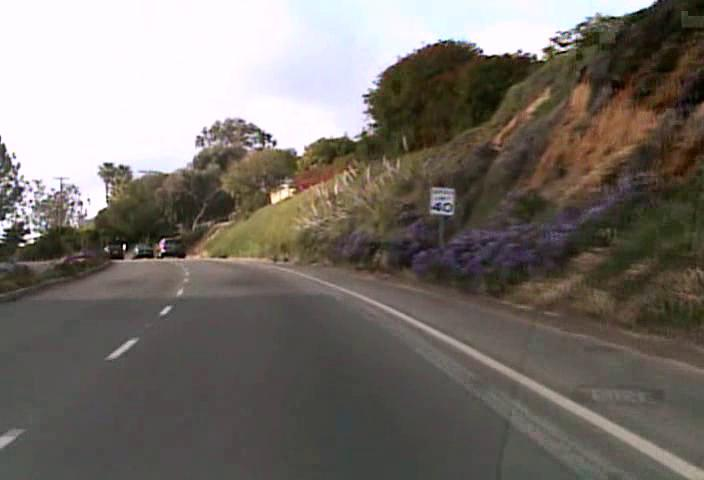speedLimit40: (428, 184, 456, 216)
